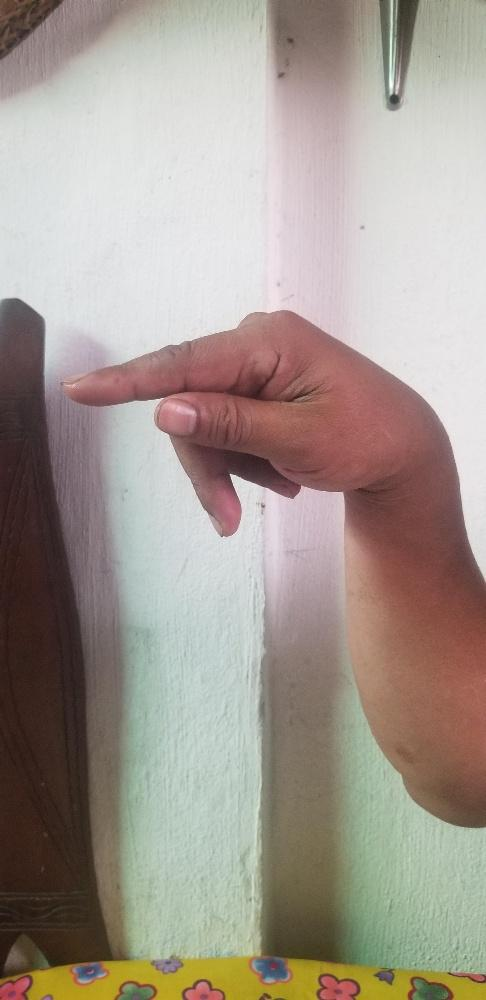p: (56, 308, 422, 537)
